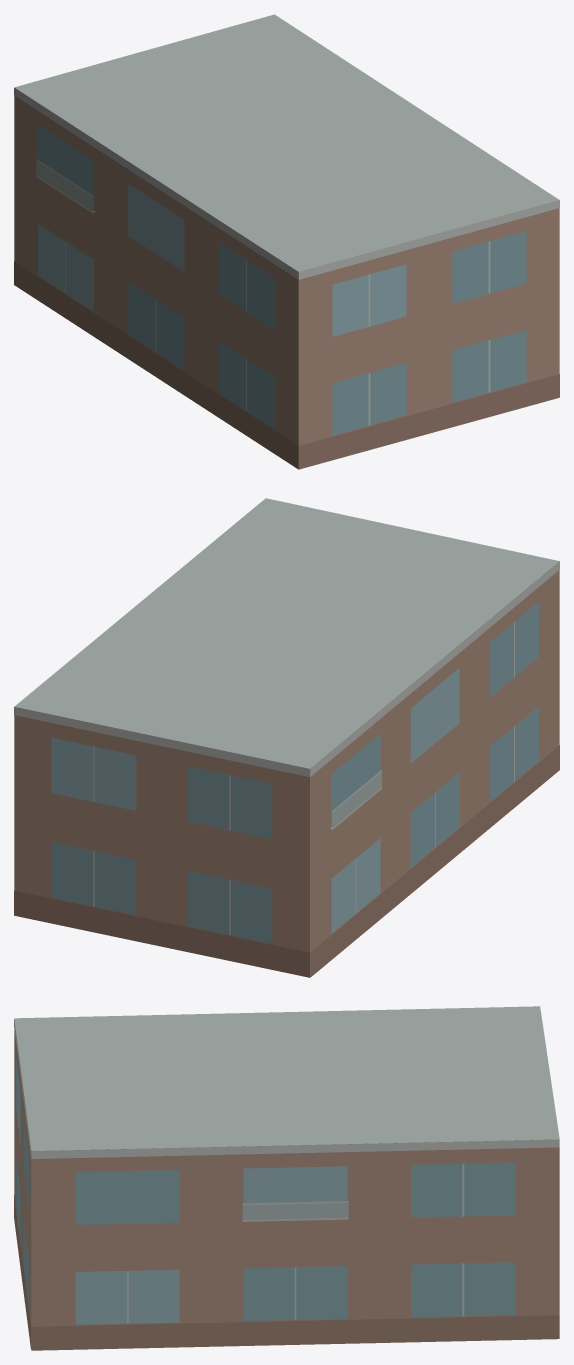
Rendered from survey-upis-32682257.glb.
3 renders of one model, top to bottom at view 1: azimuth 30°, elevation 25°; view 2: azimuth 150°, elevation 25°; view 3: azimuth 270°, elevation 25°, orthographic. The views are drawn at different scales.
Parts seen in each view (by area): view 1: survey-upis-32682257.tmp; view 2: survey-upis-32682257.tmp; view 3: survey-upis-32682257.tmp.
Boxes of the visible parts, x1,y1,x2,y2 form: survey-upis-32682257.tmp: [14, 14, 559, 469]; survey-upis-32682257.tmp: [14, 498, 559, 977]; survey-upis-32682257.tmp: [14, 1006, 559, 1350].
Size of the model in its own units: 9.51 by 6.1 by 15.13.
